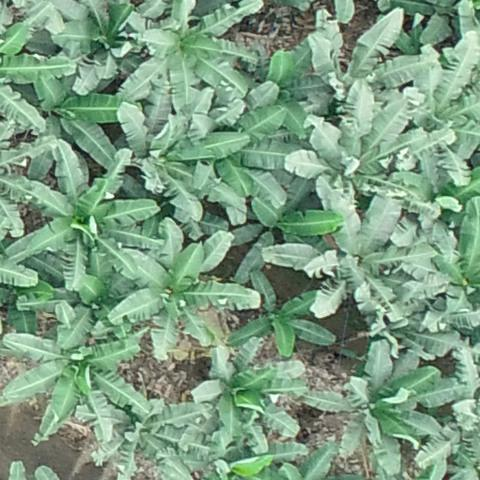Banana-plant: (2, 142, 158, 293), (116, 221, 260, 356), (4, 307, 148, 439), (296, 83, 423, 208), (123, 0, 263, 108), (118, 99, 245, 218), (314, 342, 439, 462), (314, 181, 416, 323), (195, 341, 305, 445), (308, 10, 427, 105), (24, 73, 123, 177), (97, 395, 205, 480), (234, 269, 333, 361), (52, 0, 146, 94), (216, 109, 300, 210), (426, 195, 480, 327), (198, 432, 306, 480)
